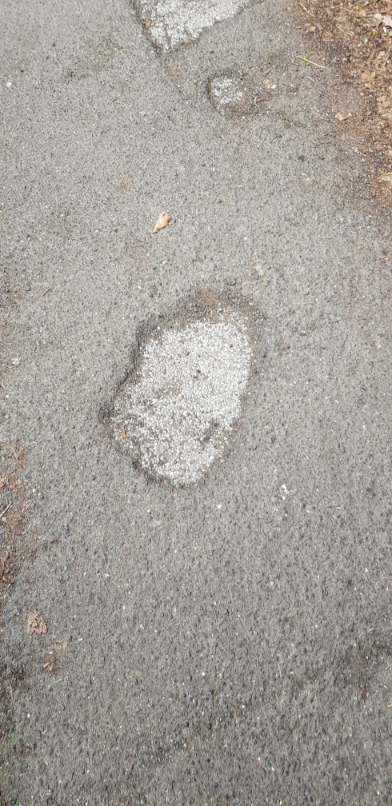pothole: (97, 284, 261, 492), (124, 0, 257, 59), (202, 69, 254, 111)
